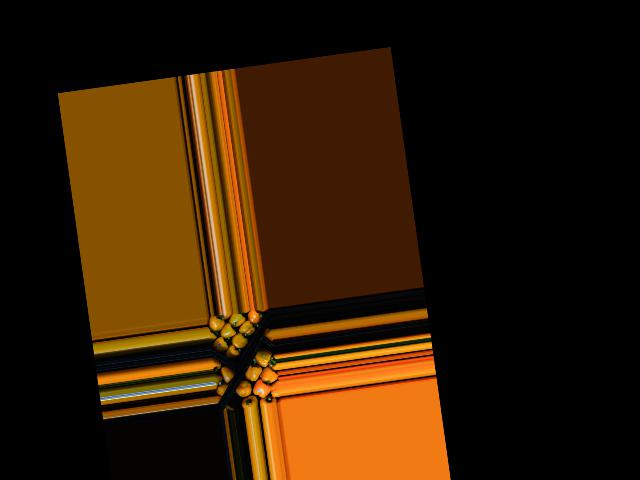bell_pepper: (205, 315, 224, 336)
